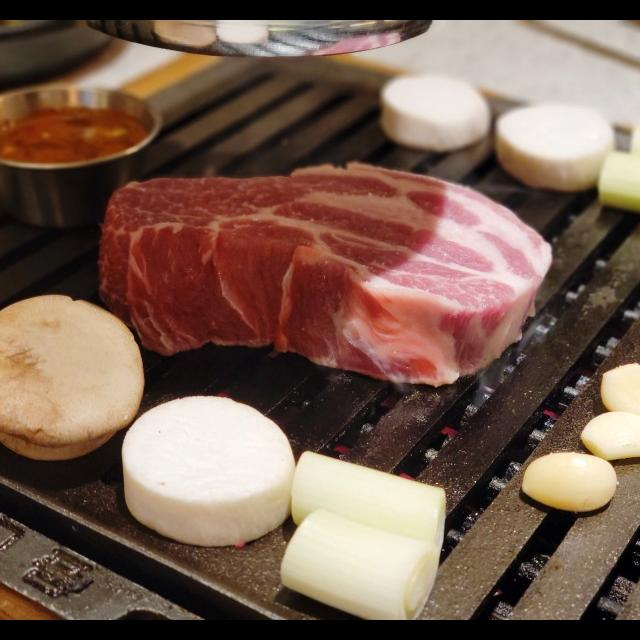beef: (98, 161, 554, 385)
